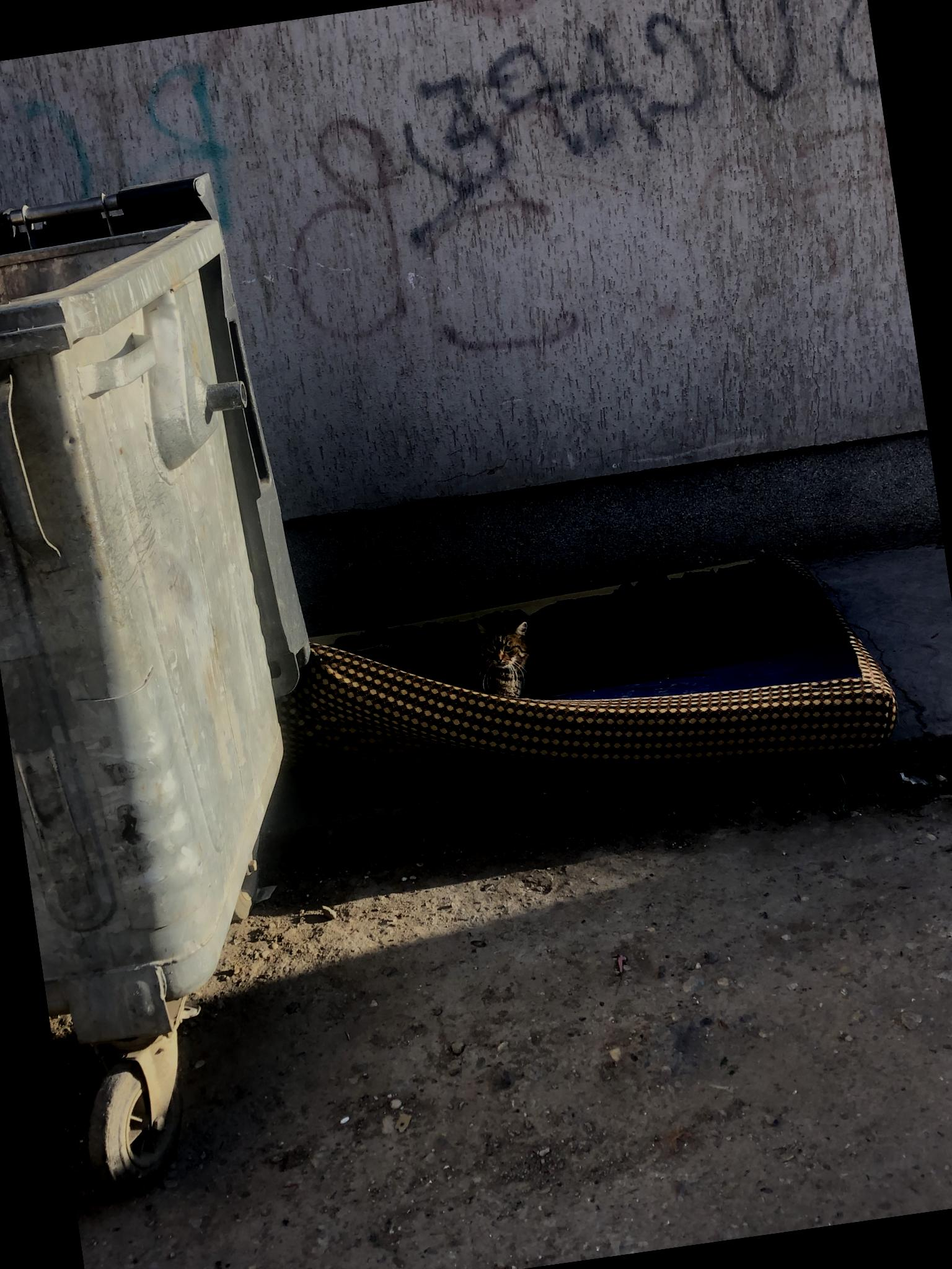macka: (470, 613, 539, 705)
